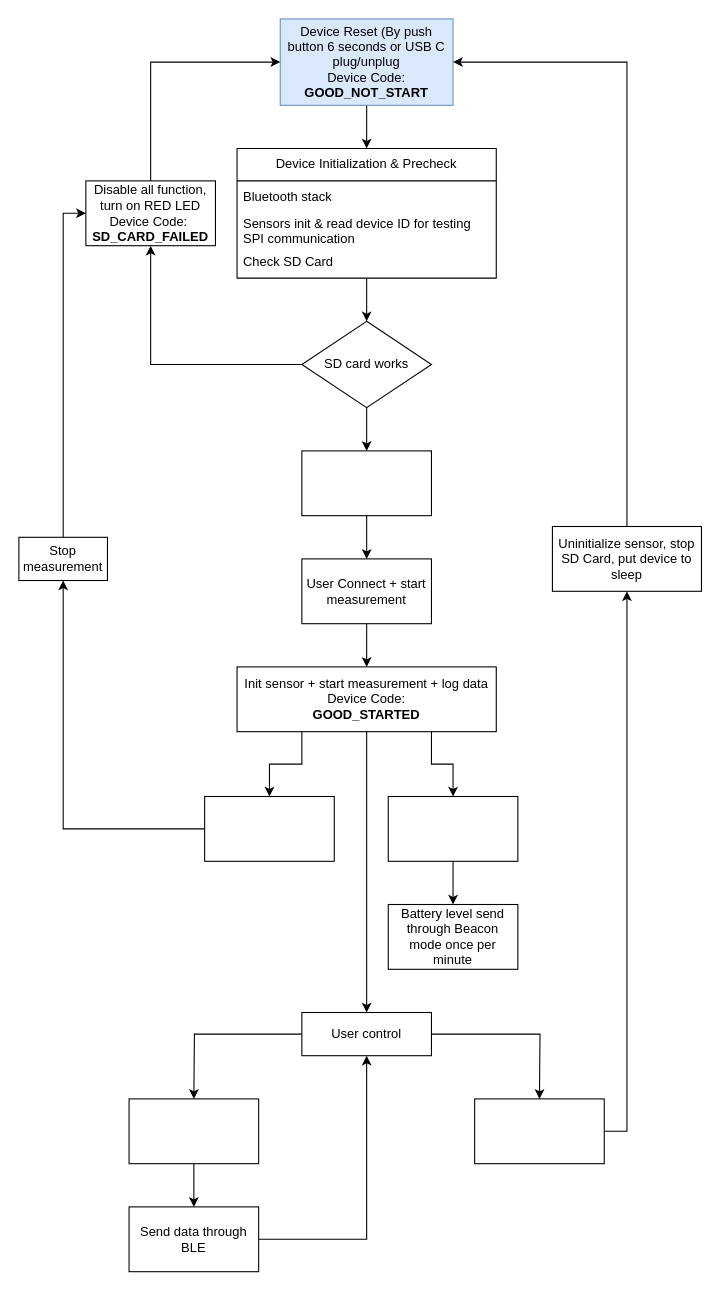
Some shapes in this 720 by 1291 pixel diagram are drawn without their labels. Here are the shapes that lost their labels. From the top down, the box of each, then its label:
(301, 450, 431, 516): Uninit SD card, go to sleep state Device Code: GOOD_NOT_START
(204, 795, 334, 861): SD Card failed Device Code: SD_CARD_FAILED
(387, 795, 518, 861): Battery lower than 3.7V Device Code: BATTERY
(128, 1098, 259, 1164): Livestream
(474, 1098, 604, 1164): Stop measurement Device Code: GOOD_NOT_START
